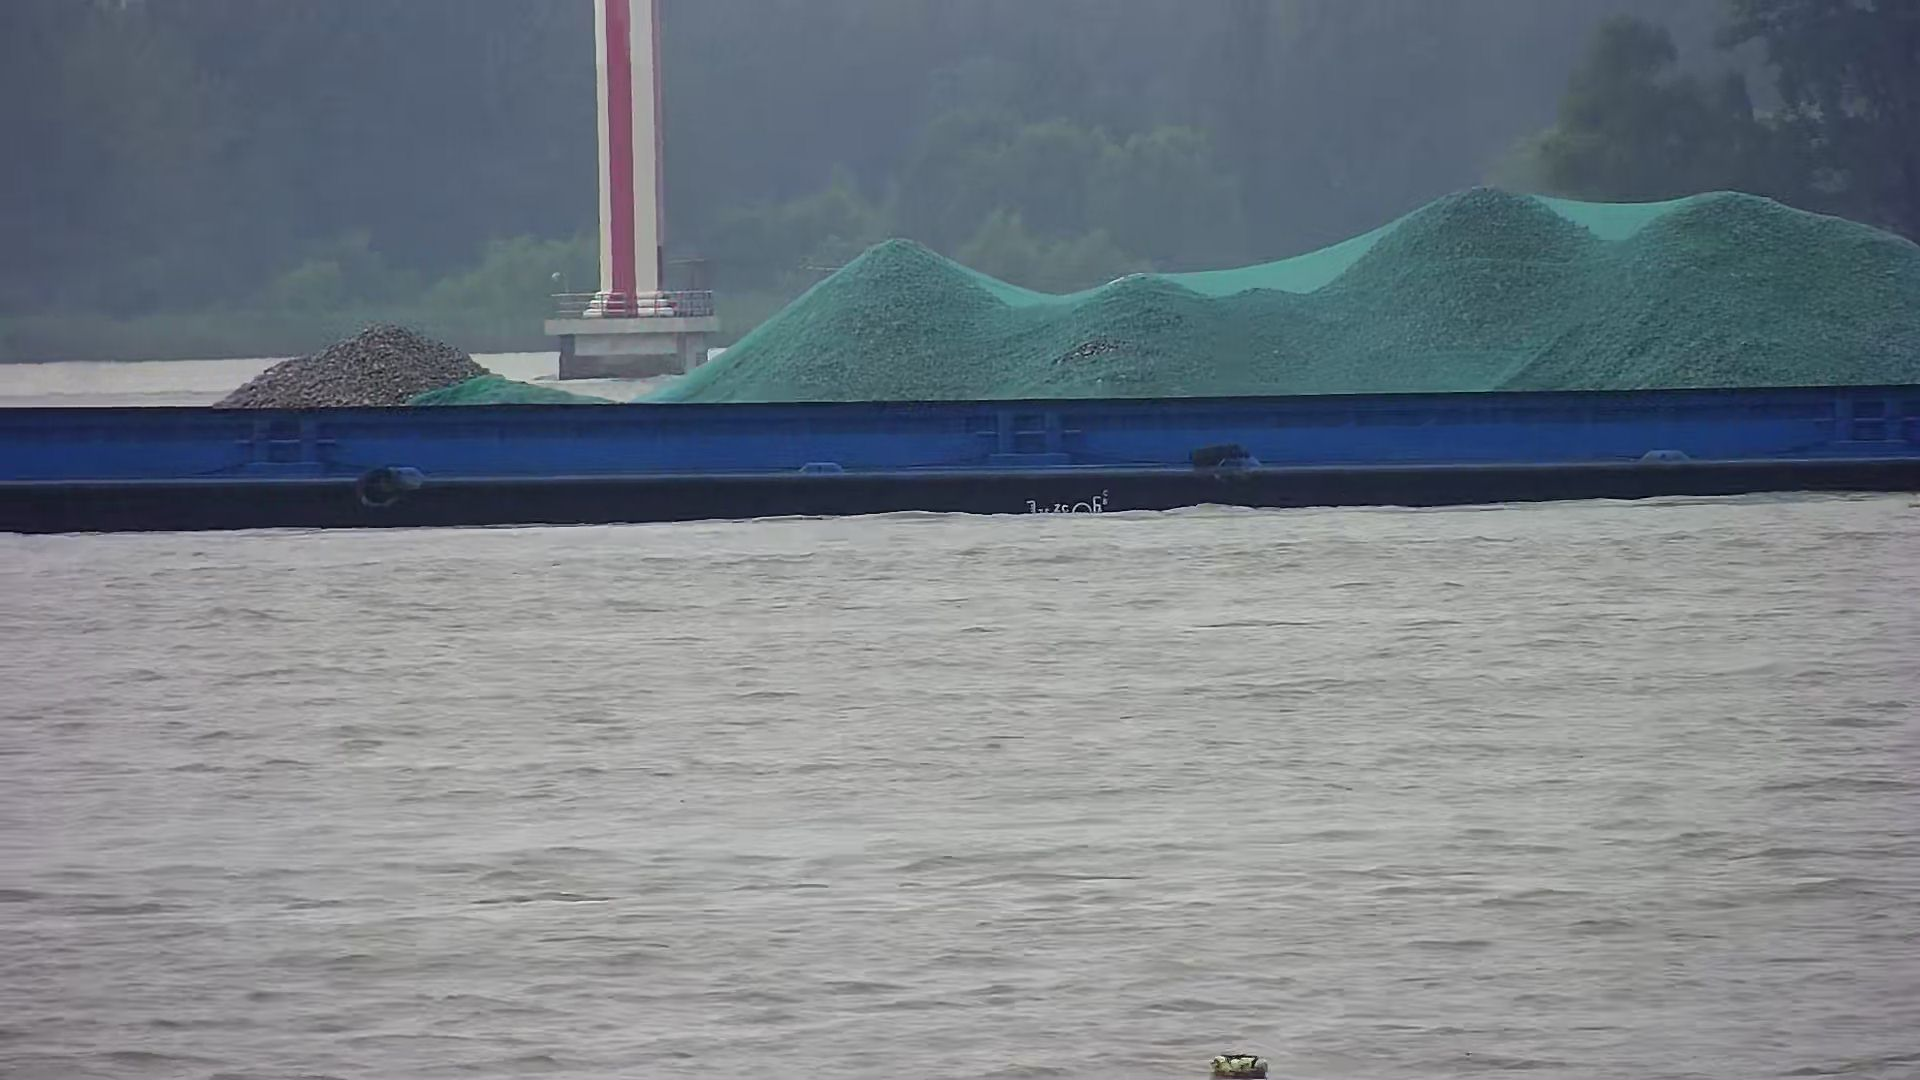platform: (542, 1, 717, 378)
rubbish: (1205, 1051, 1273, 1080)
ship: (1, 179, 1920, 534)
